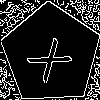X: (26, 29, 81, 85)
